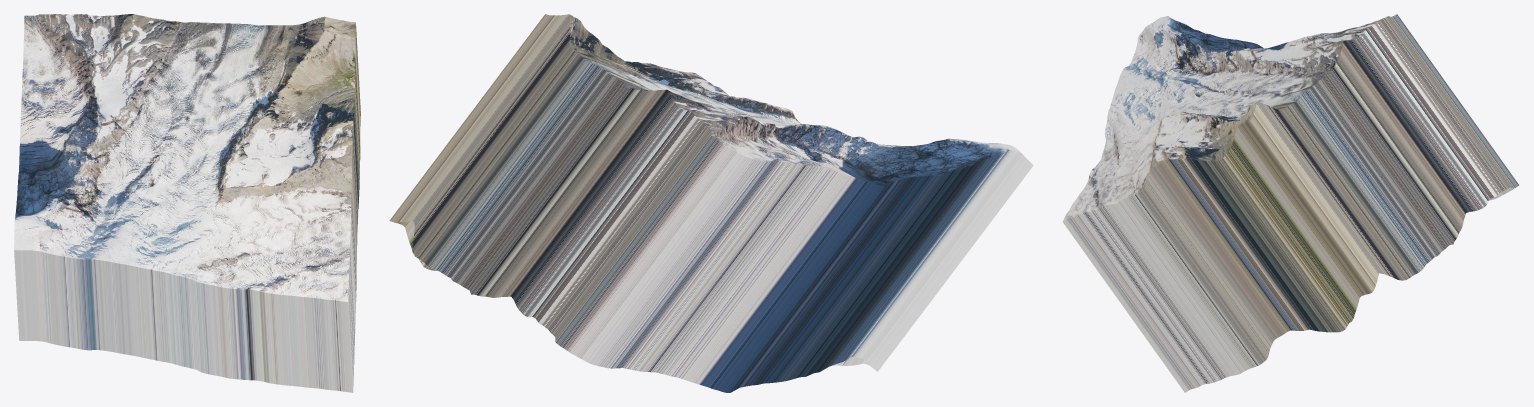
3 views of the same model, side by side, from view 1: azimuth 30°, elevation 25°; view 2: azimuth 150°, elevation 25°; view 3: azimuth 270°, elevation 25° (orthographic). The views are drawn at different scales.
Size of the model in its own units: 6774 by 4666 by 6514.
1 material, 1 textured.
